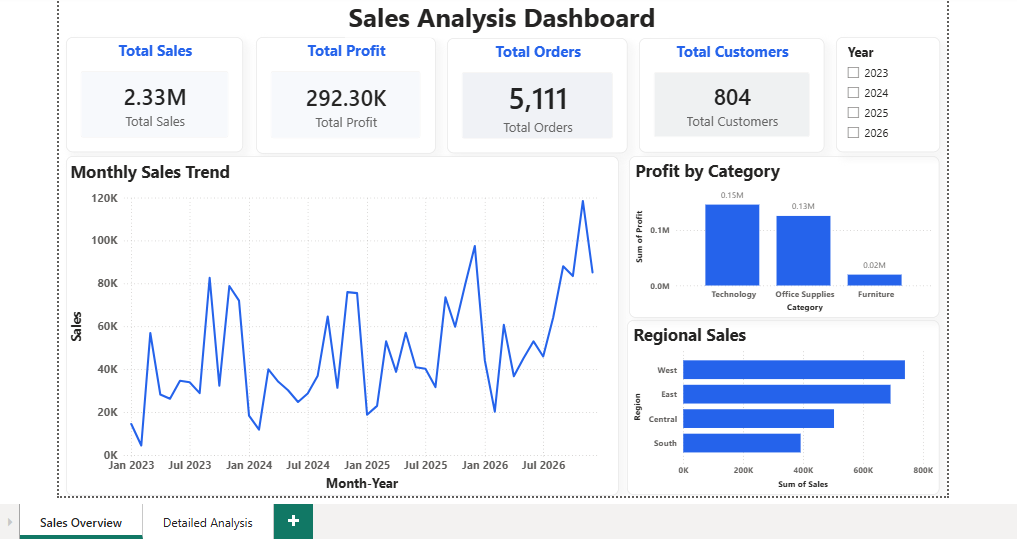

What the dashboard file says about the page in this screenshot:
{"tool":"powerbi","page":{"name":"Sales Overview","canvas":[1280,720],"ordinal":0},"visuals":[{"type":"cardVisual","title":"Total Sales","fields":{"Data":["Sum(sales_analysis orders.Sales)"]},"box":[10.1,58.8,255.3,166.3],"z":0},{"type":"cardVisual","title":"Total Profit","fields":{"Data":["Sum(sales_analysis orders.Profit)"]},"box":[283.9,58.8,258.7,168],"z":1000},{"type":"cardVisual","title":"Total Orders","fields":{"Data":["Count(sales_analysis orders.Order ID)"]},"box":[559.4,60.5,260.4,166.3],"z":2000},{"type":"cardVisual","title":"Total Customers","fields":{"Data":["Count(sales_analysis orders.Customer ID)"]},"box":[834.9,60.5,267.1,164.6],"z":3000},{"type":"lineChart","title":"Monthly Sales Trend","fields":{"Y":["Sum(sales_analysis orders.Sales)"],"Category":["sales_analysis orders.Order Date.Variation.Date Hierarchy.Year","sales_analysis orders.Order Date.Variation.Date Hierarchy.Month"]},"box":[10.1,230.1,796.2,488.8],"z":4000},{"type":"clusteredBarChart","title":"Regional Sales","fields":{"Category":["sales_analysis orders.Region"],"Y":["Sum(sales_analysis orders.Sales)"]},"box":[818.1,467,450.2,252],"z":5000},{"type":"clusteredColumnChart","title":"Profit by Category","fields":{"Category":["sales_analysis orders.Category"],"Y":["Sum(sales_analysis orders.Profit)"]},"box":[821.4,230.1,446.8,233.5],"z":6000},{"type":"textbox","box":[411.5,0,467,60.5],"z":7000},{"type":"slicer","fields":{"Values":["sales_analysis orders.Order Date.Variation.Date Hierarchy.Year"]},"box":[1118.7,58.8,149.5,166.3],"z":8000}]}

Visuals, with their boxes on the page's 1280x720 design canvas (x1, y1, x2, y2). These are canvas units, not pixel positions in the 1017x539 screenshot, which may show the page scaled, cropped or inside an application window:
"Total Sales" cardVisual: bbox(10, 59, 265, 225)
"Total Profit" cardVisual: bbox(284, 59, 543, 227)
"Total Orders" cardVisual: bbox(559, 60, 820, 227)
"Total Customers" cardVisual: bbox(835, 60, 1102, 225)
"Monthly Sales Trend" lineChart: bbox(10, 230, 806, 719)
"Regional Sales" clusteredBarChart: bbox(818, 467, 1268, 719)
"Profit by Category" clusteredColumnChart: bbox(821, 230, 1268, 464)
textbox: bbox(412, 0, 878, 60)
slicer - sales_analysis orders.Order Date.Variation.Date Hierarchy.Year: bbox(1119, 59, 1268, 225)
